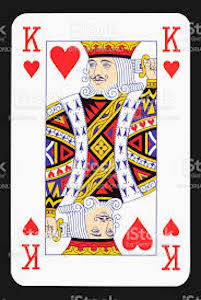KingOfHearts: (10, 12, 193, 291)
